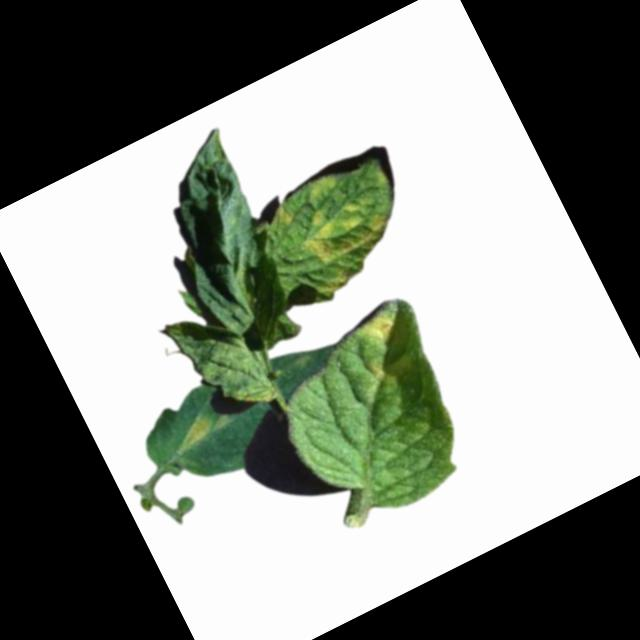Leaf_Mold: (297, 187, 408, 295), (166, 403, 236, 457), (354, 309, 397, 350), (302, 169, 342, 203), (362, 356, 388, 387), (268, 201, 294, 228)
